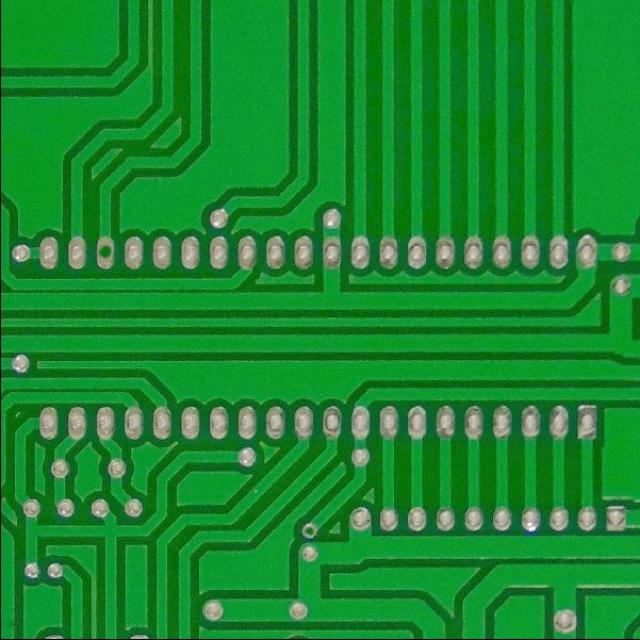missing_hole: (88, 239, 120, 266), (296, 519, 321, 544)
